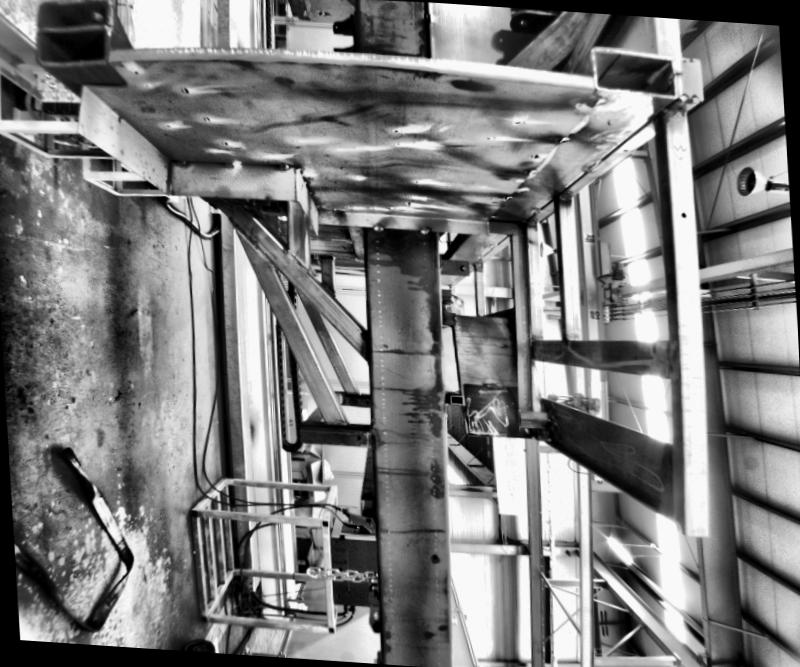hole: (680, 212, 687, 220), (432, 552, 438, 560), (632, 355, 636, 361), (356, 436, 360, 438)
welding: (215, 156, 240, 171), (172, 154, 190, 167), (415, 224, 433, 234), (272, 162, 290, 170), (372, 222, 382, 234)
